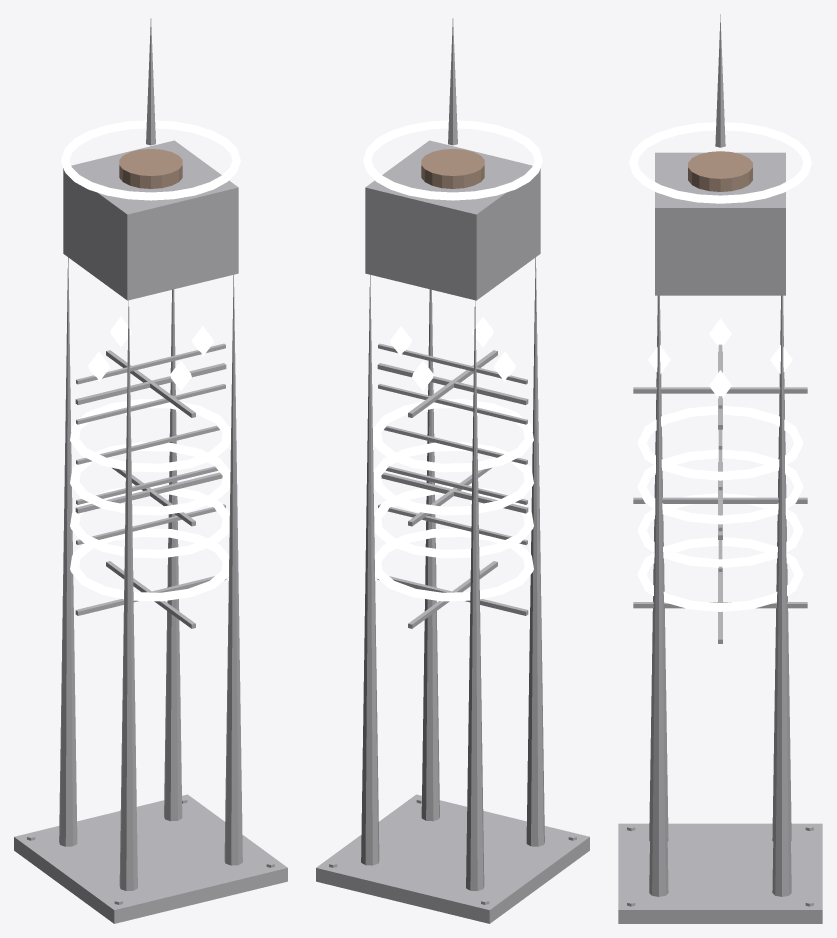
File: derrick_mythic.glb
3 views of the same model, side by side, from view 1: azimuth 30°, elevation 25°; view 2: azimuth 150°, elevation 25°; view 3: azimuth 270°, elevation 25° (orthographic).
Parts seen in each view (by area): view 1: derrick; view 2: derrick; view 3: derrick.
Part boxes in pixels (x1,y1,x2,y2): derrick: (14,18,287,923); derrick: (316,18,589,923); derrick: (618,14,822,923).
Size of the model in its own units: 2.11 by 9.9 by 2.11.
